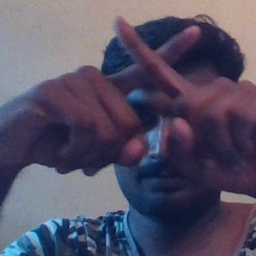X: (91, 11, 225, 147)
